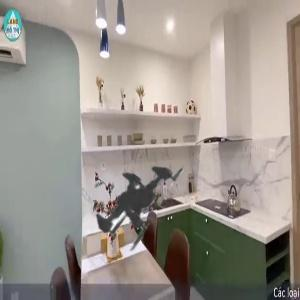drone: (40, 109, 219, 288)
